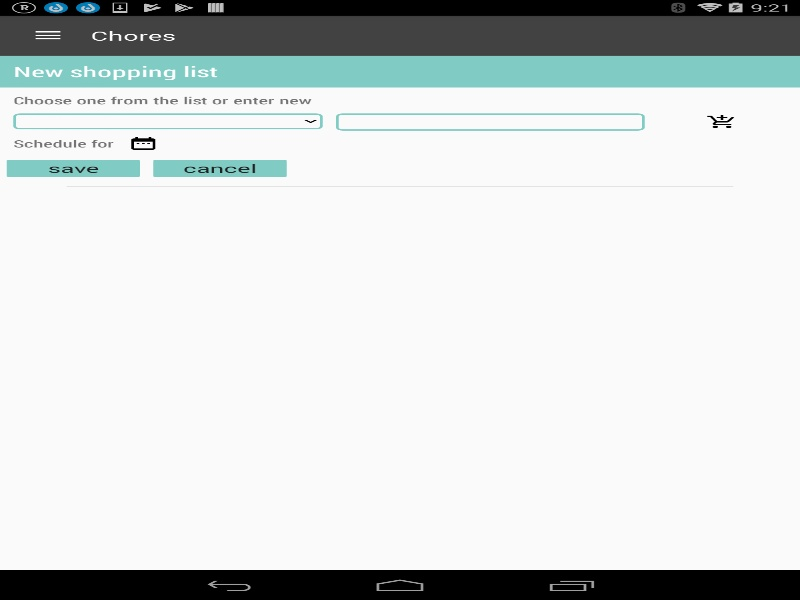Button: (10, 18, 85, 53), (6, 159, 140, 177), (153, 159, 286, 177)
Input: (336, 113, 644, 130)
